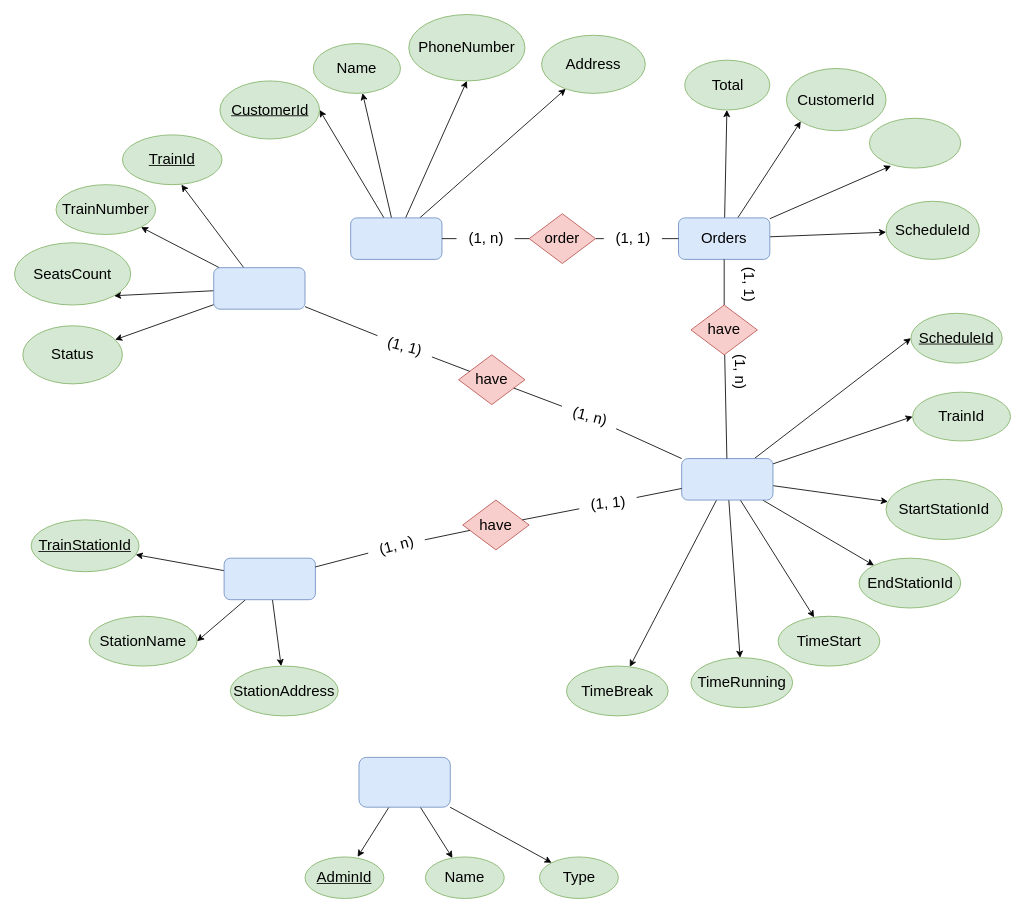
The diagram is 1025 pixels wide and 913 high, and some of its shapes have lost their labels. Each missing label, with the centre of its shape:
"Admin" belongs at pixel 404 782.
"Customers" belongs at pixel 396 238.
"OrderId" belongs at pixel 915 142.
"Schedules" belongs at pixel 727 479.
"Trains" belongs at pixel 259 288.
"Trainstations" belongs at pixel 269 578.
